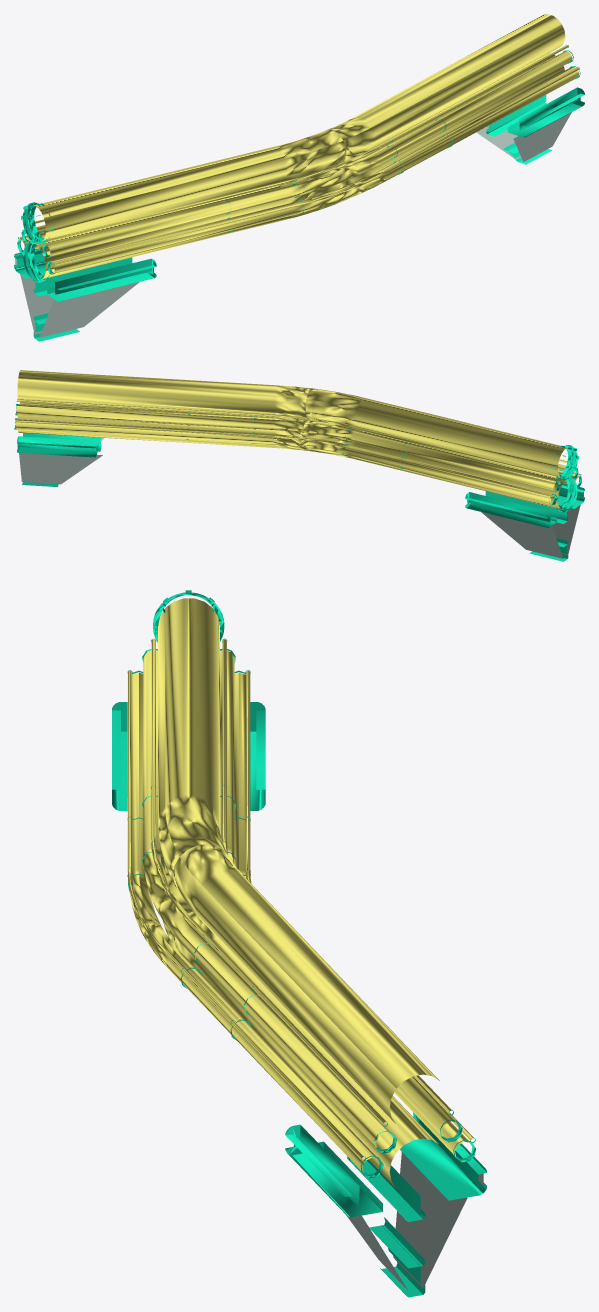
Rendered from pipeline_b_22d_185m_b.glb.
The picture shows the model from 3 angles, top to bottom: view 1: azimuth 30°, elevation 25°; view 2: azimuth 150°, elevation 25°; view 3: azimuth 270°, elevation 25°; orthographic projection. The views are drawn at different scales.
Bounding box in the file's own units: 199 × 42.87 × 63.93.
